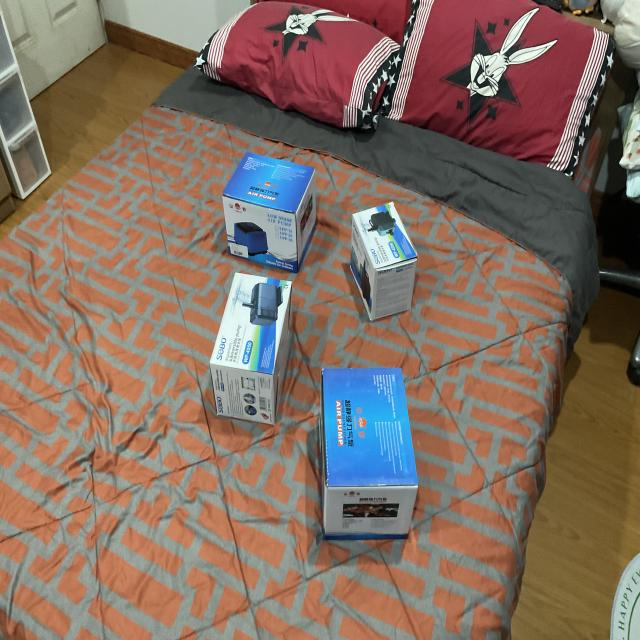SOBO_WP_4200: (196, 268, 306, 440), (341, 180, 434, 327)
YAMANO_LPP_20: (310, 347, 425, 551), (211, 142, 326, 274)
